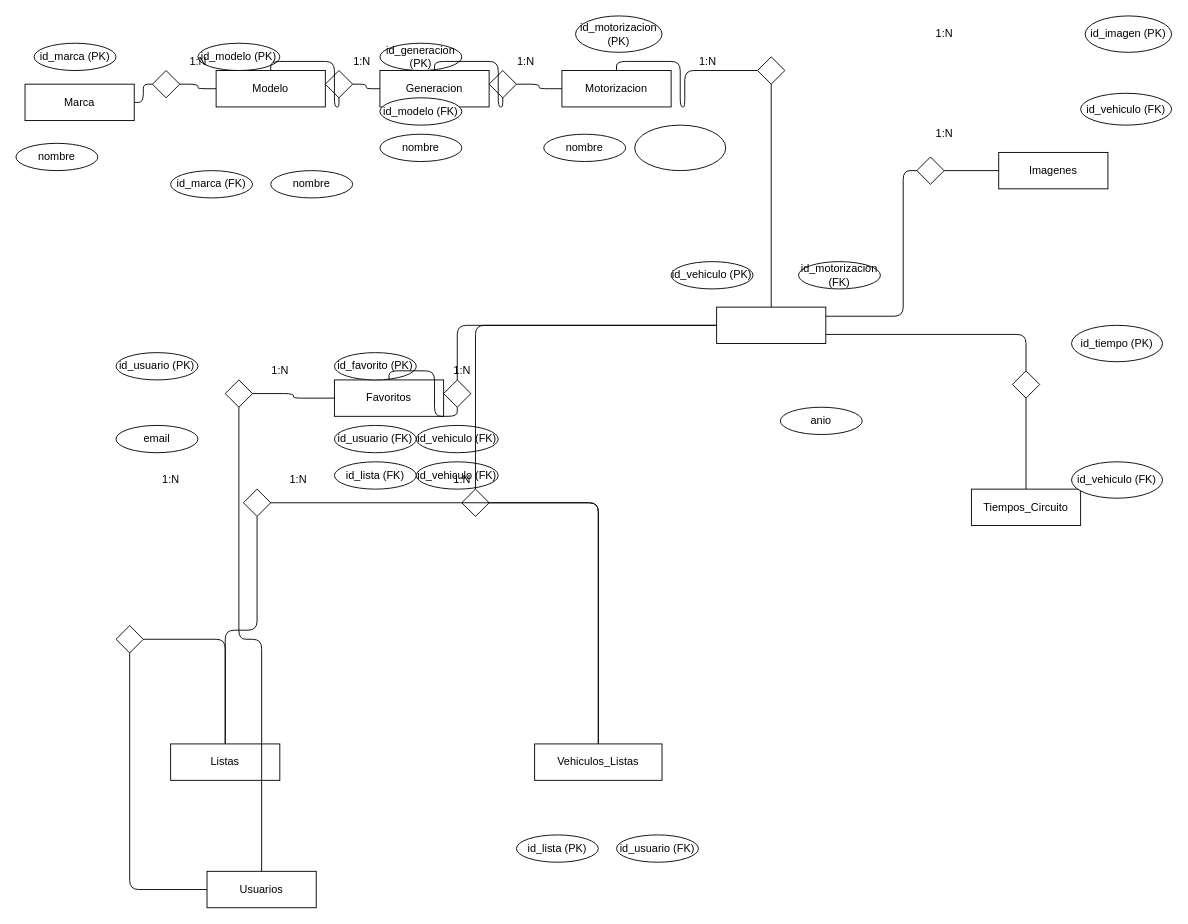
Some shapes in this 1188 by 924 pixel diagram are drawn without their labels. Each missing label, with the centre of its shape:
"id_generacion (FK)" belongs at point (680, 147).
"Vehiculo" belongs at point (771, 325).
